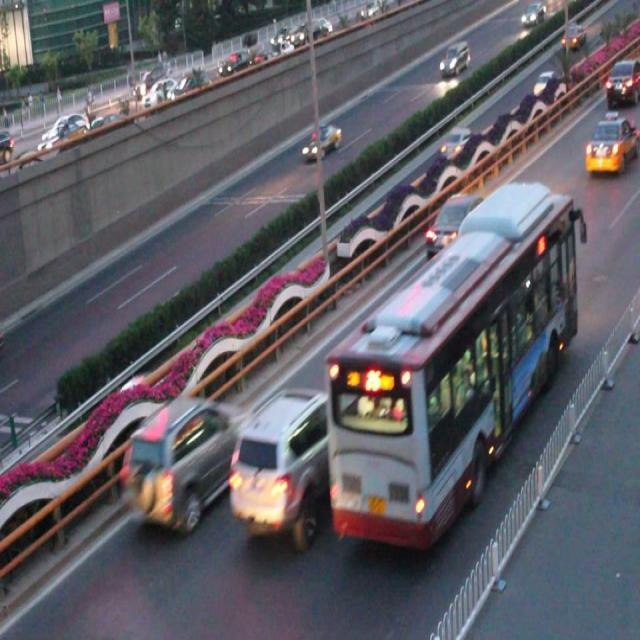car: (229, 388, 333, 545), (119, 401, 240, 528), (422, 188, 482, 258), (582, 116, 640, 173), (300, 120, 341, 162), (435, 124, 476, 162)
van: (324, 183, 578, 544)
